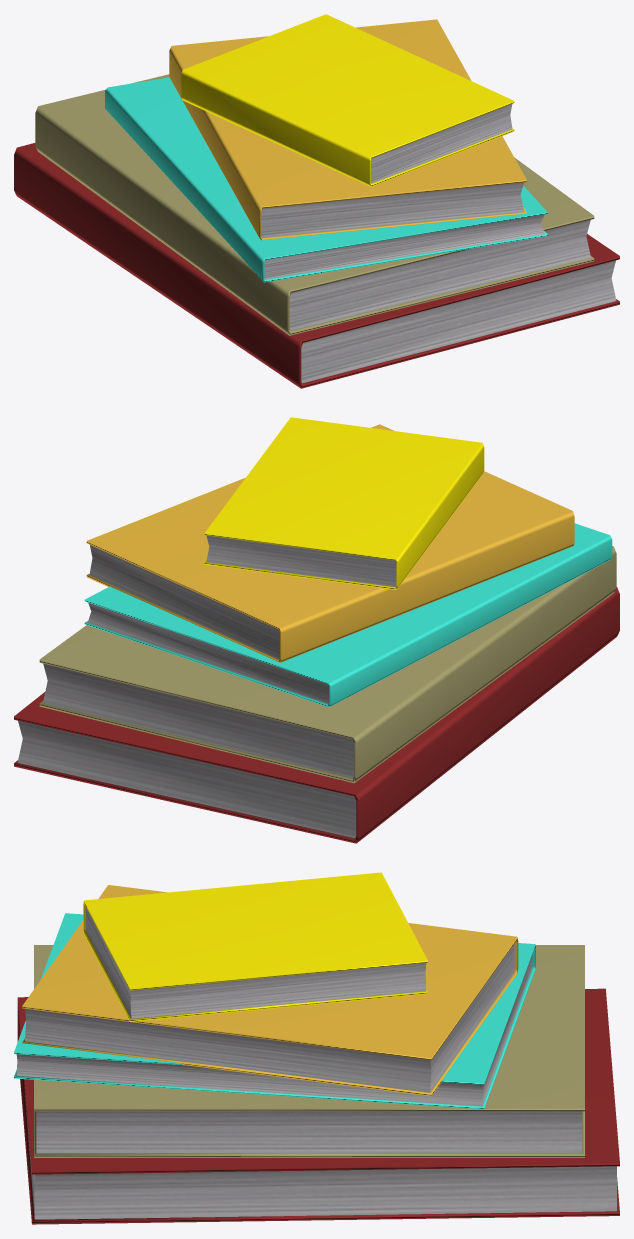
Rendered from Books_3.fbx.
3 renders of one model, top to bottom at view 1: azimuth 30°, elevation 25°; view 2: azimuth 150°, elevation 25°; view 3: azimuth 270°, elevation 25°, orthographic. The views are drawn at different scales.
Visible parts, largest first — view 1: Books_3; view 2: Books_3; view 3: Books_3.
Boxes of the visible parts, x1=… form: Books_3: x1=14, y1=14, x2=619, y2=388; Books_3: x1=14, y1=417, x2=619, y2=843; Books_3: x1=14, y1=872, x2=619, y2=1224.
Size of the model in its own units: 1825 by 941 by 2540.
